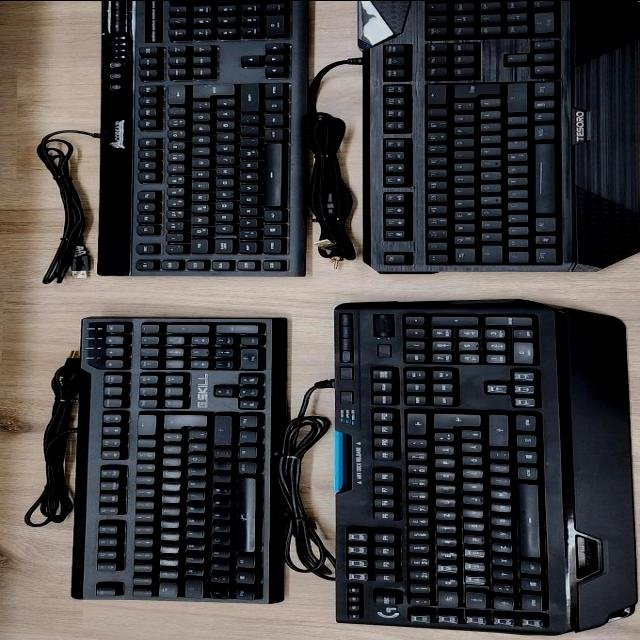keyboard: (331, 297, 563, 637), (62, 313, 294, 608), (87, 0, 321, 281), (356, 1, 576, 277)
